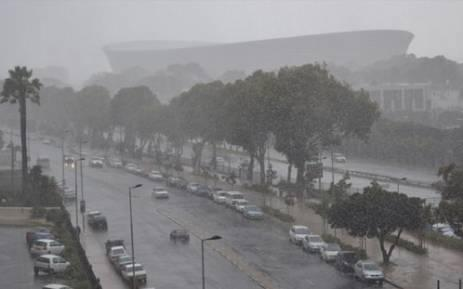backpack: (168, 229, 189, 243)
bench: (32, 253, 93, 286), (169, 229, 189, 244)
bicycle: (170, 228, 190, 243)
boat: (109, 256, 146, 286), (33, 253, 70, 274), (29, 238, 58, 256), (106, 239, 128, 262), (152, 186, 169, 199), (42, 281, 73, 288)
bus: (193, 137, 254, 192), (105, 239, 139, 280), (109, 256, 146, 286), (293, 157, 325, 184), (300, 160, 321, 195), (35, 254, 68, 273), (106, 239, 128, 264), (29, 238, 58, 256), (290, 225, 313, 245), (302, 159, 322, 179), (107, 150, 122, 167), (152, 186, 168, 199)
car: (46, 229, 153, 286), (96, 233, 177, 287), (53, 251, 136, 289), (35, 253, 101, 287), (29, 242, 82, 283), (19, 233, 72, 271), (105, 239, 146, 286), (93, 232, 141, 272), (81, 204, 112, 258), (88, 259, 143, 288), (104, 218, 130, 264), (62, 142, 107, 167), (63, 258, 100, 287), (113, 256, 147, 287), (77, 198, 108, 232), (107, 239, 136, 271), (204, 154, 243, 177), (30, 244, 66, 268), (24, 230, 62, 252), (33, 253, 71, 274), (30, 238, 65, 258), (109, 258, 133, 286), (342, 256, 372, 278), (110, 254, 141, 275), (119, 247, 145, 272), (353, 260, 383, 281), (230, 202, 263, 220), (104, 246, 126, 272), (86, 150, 117, 168), (225, 197, 257, 214), (217, 191, 248, 208), (335, 252, 360, 273), (27, 235, 54, 254), (106, 239, 127, 263), (347, 250, 371, 271), (198, 184, 226, 202), (291, 222, 319, 240), (289, 224, 311, 246), (86, 209, 107, 232), (207, 186, 237, 202), (314, 237, 339, 256), (190, 181, 215, 200), (117, 261, 143, 279), (312, 232, 338, 250), (40, 276, 79, 288), (331, 254, 352, 276), (294, 228, 317, 248), (26, 228, 56, 243), (302, 233, 324, 253), (216, 160, 236, 182), (33, 236, 64, 250), (44, 238, 68, 256), (434, 223, 461, 239), (27, 224, 57, 238), (208, 173, 236, 188), (326, 248, 349, 266), (24, 233, 44, 253), (210, 177, 231, 196), (239, 191, 261, 209), (341, 251, 364, 268), (304, 159, 323, 179), (319, 244, 340, 262), (80, 152, 105, 167), (342, 258, 359, 280), (335, 172, 352, 194), (187, 178, 210, 194), (333, 250, 353, 268), (111, 248, 131, 266), (304, 188, 322, 208), (98, 151, 120, 167), (218, 188, 245, 201), (117, 253, 140, 268), (344, 255, 363, 273), (321, 150, 346, 163), (206, 179, 224, 197), (84, 208, 102, 226), (164, 175, 187, 189), (233, 193, 253, 209), (113, 255, 134, 270), (352, 253, 367, 274), (119, 258, 143, 271), (352, 257, 376, 270), (310, 235, 328, 252), (330, 152, 347, 170), (233, 201, 252, 217), (170, 228, 190, 243), (351, 252, 374, 265), (211, 169, 234, 182), (242, 205, 263, 219), (110, 155, 131, 169), (149, 168, 172, 180), (224, 174, 241, 190), (90, 149, 106, 166), (280, 188, 297, 204), (105, 238, 120, 256), (93, 156, 115, 168), (220, 191, 240, 204), (110, 252, 125, 269), (109, 245, 124, 262), (341, 255, 355, 273), (274, 210, 295, 222), (33, 227, 53, 239), (351, 258, 363, 278), (200, 184, 217, 198), (25, 231, 39, 248), (239, 203, 258, 215), (108, 151, 122, 167), (195, 183, 211, 197), (211, 184, 227, 198), (34, 232, 56, 242), (218, 172, 236, 184), (212, 188, 231, 199), (189, 182, 205, 195), (152, 187, 169, 199), (180, 180, 197, 192), (327, 246, 341, 260), (208, 187, 223, 200), (232, 199, 248, 211), (126, 163, 145, 173), (229, 195, 246, 206), (348, 257, 359, 274), (324, 249, 338, 262), (213, 191, 228, 203), (304, 198, 322, 208), (231, 190, 249, 200), (229, 191, 245, 202), (302, 235, 313, 251), (339, 251, 355, 262), (122, 158, 138, 169), (87, 153, 103, 164), (319, 248, 332, 261), (315, 240, 328, 253), (174, 177, 188, 189), (326, 242, 340, 254), (51, 239, 65, 251), (269, 196, 281, 210), (89, 156, 104, 167), (117, 254, 132, 265), (283, 192, 294, 207), (167, 176, 183, 186), (319, 243, 331, 256), (241, 207, 253, 220), (332, 152, 346, 163), (236, 202, 250, 213), (198, 188, 212, 199), (105, 156, 119, 167), (207, 185, 221, 196), (113, 253, 128, 263), (224, 193, 236, 205), (111, 156, 123, 168), (237, 195, 248, 208), (211, 181, 224, 192), (218, 191, 232, 201), (322, 232, 336, 242), (242, 199, 256, 209), (332, 251, 346, 261), (336, 249, 353, 257), (148, 170, 163, 179), (331, 250, 340, 265), (230, 200, 242, 211), (102, 156, 113, 168), (238, 204, 249, 216), (226, 190, 238, 201), (195, 182, 206, 194), (217, 196, 229, 207), (186, 182, 199, 192), (284, 195, 297, 205), (226, 197, 239, 207), (335, 251, 343, 267), (233, 194, 249, 202), (72, 224, 80, 240), (293, 223, 309, 231), (125, 162, 139, 171), (320, 238, 329, 252), (207, 190, 218, 201), (226, 174, 238, 184), (35, 226, 50, 234), (222, 195, 232, 207), (164, 175, 176, 185), (340, 245, 355, 253), (180, 179, 190, 191), (358, 258, 375, 265), (216, 173, 229, 182), (239, 193, 252, 202), (227, 191, 243, 198), (218, 189, 234, 196), (270, 186, 280, 197), (181, 183, 192, 193), (233, 203, 245, 212), (318, 246, 327, 258), (237, 197, 252, 204), (48, 238, 63, 245), (206, 186, 214, 199), (335, 247, 343, 260), (228, 199, 237, 210), (230, 203, 240, 212)
chair: (86, 210, 108, 232), (169, 229, 189, 244)
handbag: (169, 229, 189, 244)
horse: (169, 229, 189, 244)
motorcycle: (86, 210, 108, 232), (336, 253, 359, 274), (170, 228, 190, 243), (284, 195, 297, 205)
parking meter: (80, 199, 86, 213)
person: (337, 252, 359, 274), (87, 210, 108, 232), (118, 260, 138, 283), (301, 232, 321, 253), (339, 170, 352, 194), (168, 229, 189, 243), (25, 230, 39, 248), (336, 172, 348, 188), (286, 191, 297, 206), (340, 169, 351, 184), (343, 172, 352, 188), (265, 167, 273, 185), (269, 168, 277, 185), (343, 178, 352, 192), (285, 195, 295, 207), (73, 224, 80, 241), (104, 239, 111, 255), (206, 185, 214, 199), (284, 192, 292, 205)
suitcase: (169, 229, 190, 244)
traffic light: (303, 159, 322, 179), (80, 199, 86, 213)
train: (303, 159, 323, 181)
truck: (140, 133, 256, 188), (55, 237, 146, 287), (96, 233, 177, 287), (193, 138, 254, 188), (265, 148, 320, 192), (35, 253, 101, 287), (101, 221, 143, 274), (105, 237, 147, 287), (201, 150, 245, 182), (82, 202, 110, 242), (302, 154, 335, 186), (112, 256, 146, 287), (29, 242, 68, 269), (106, 237, 134, 272), (293, 157, 325, 184), (24, 230, 62, 252), (33, 253, 71, 274), (30, 238, 65, 258), (342, 256, 372, 278), (356, 261, 384, 282), (27, 235, 54, 254), (86, 209, 108, 232), (336, 253, 359, 274), (106, 239, 126, 262), (290, 225, 313, 245), (26, 228, 56, 243), (115, 255, 138, 274), (303, 159, 323, 180), (302, 233, 324, 252), (109, 246, 131, 265), (111, 252, 131, 271), (322, 243, 340, 262), (321, 150, 346, 163), (241, 206, 263, 219), (220, 191, 240, 204), (227, 193, 246, 206), (208, 186, 224, 201), (151, 186, 169, 199), (108, 151, 122, 167), (194, 183, 210, 197), (189, 182, 206, 195), (233, 199, 249, 211), (213, 190, 227, 203), (217, 191, 232, 203), (117, 254, 132, 266), (169, 176, 185, 187), (229, 197, 244, 208), (186, 182, 200, 193), (332, 152, 346, 163), (90, 157, 104, 168)
